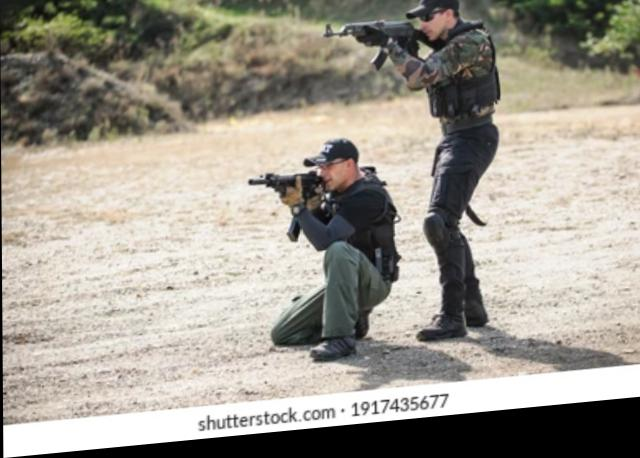other: (412, 0, 497, 340), (303, 145, 392, 354)
